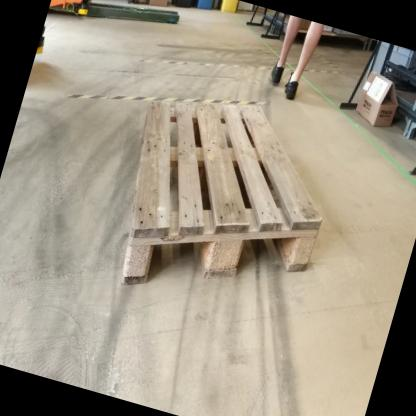BoxFace: (117, 96, 327, 294)
